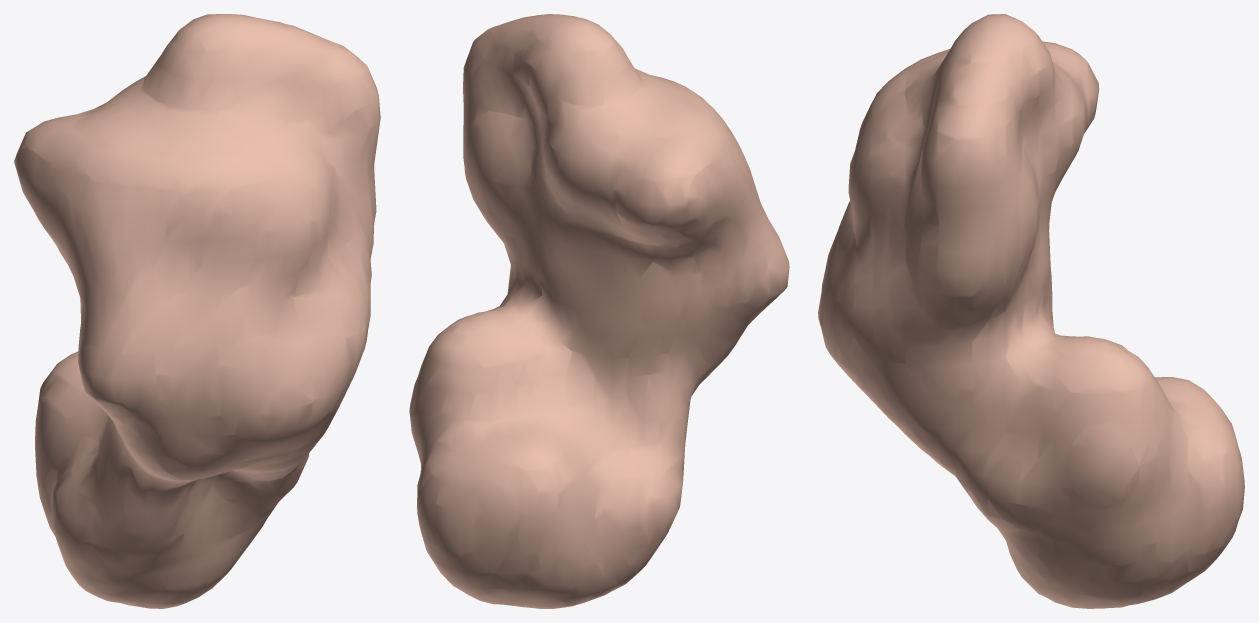
The model's file is CA_mono.dae.
3 views of the same model, side by side, from view 1: azimuth 30°, elevation 25°; view 2: azimuth 150°, elevation 25°; view 3: azimuth 270°, elevation 25° (orthographic). The views are drawn at different scales.
Visible parts, largest first — view 1: CoarseMS_3j3q_1vu4_A_biomt; view 2: CoarseMS_3j3q_1vu4_A_biomt; view 3: CoarseMS_3j3q_1vu4_A_biomt.
Boxes of the visible parts, x1=… form: CoarseMS_3j3q_1vu4_A_biomt: x1=14, y1=14, x2=380, y2=608; CoarseMS_3j3q_1vu4_A_biomt: x1=409, y1=14, x2=789, y2=608; CoarseMS_3j3q_1vu4_A_biomt: x1=818, y1=14, x2=1244, y2=608.
Bounding box in the file's own units: 46.99 × 85.44 × 56.32.
